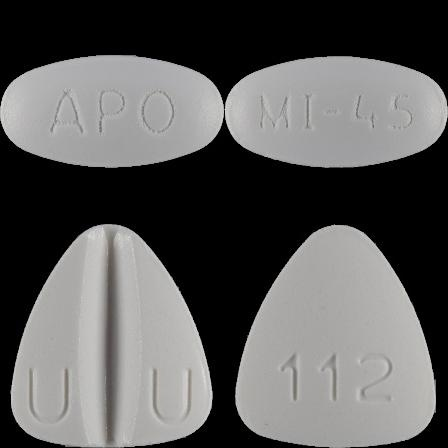61786-208: (0, 0, 224, 224)
